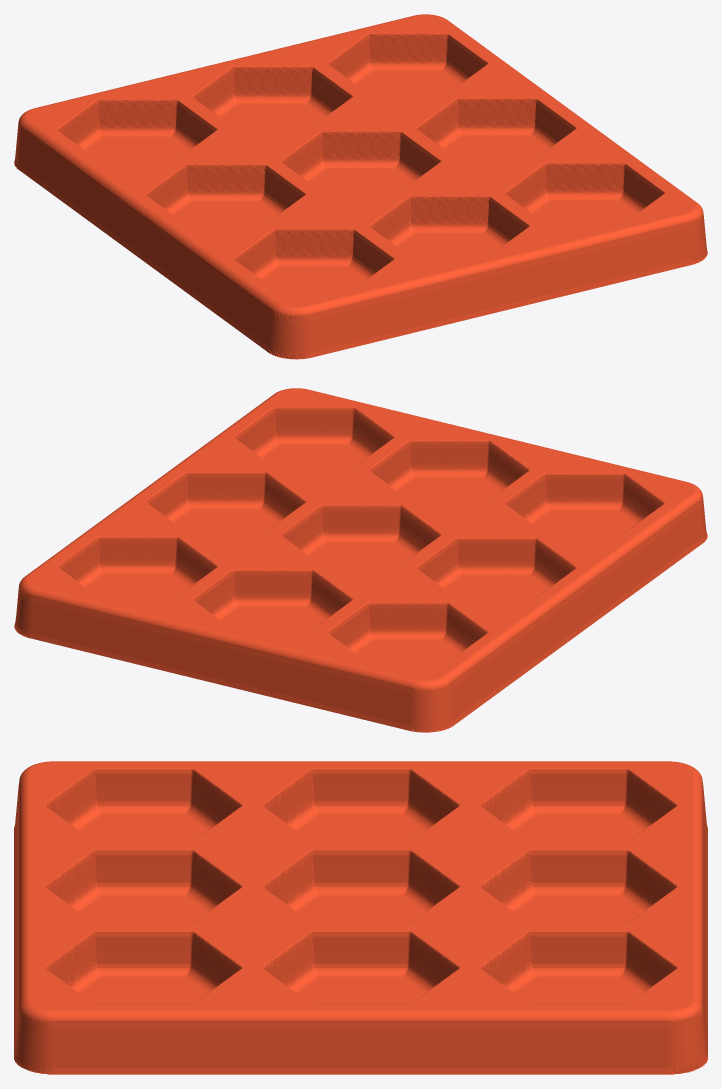
Rendered from mold.glb.
The picture shows the model from 3 angles, top to bottom: view 1: azimuth 30°, elevation 25°; view 2: azimuth 150°, elevation 25°; view 3: azimuth 270°, elevation 25°; orthographic projection. The views are drawn at different scales.
Parts seen in each view (by area): view 1: geometry_0; view 2: geometry_0; view 3: geometry_0.
Boxes of the visible parts, x1,y1,x2,y2 form: geometry_0: (14, 14, 707, 359); geometry_0: (14, 388, 707, 732); geometry_0: (14, 761, 707, 1074).
Bounding box in the file's own units: 0.1406 × 0.0145 × 0.1579.
